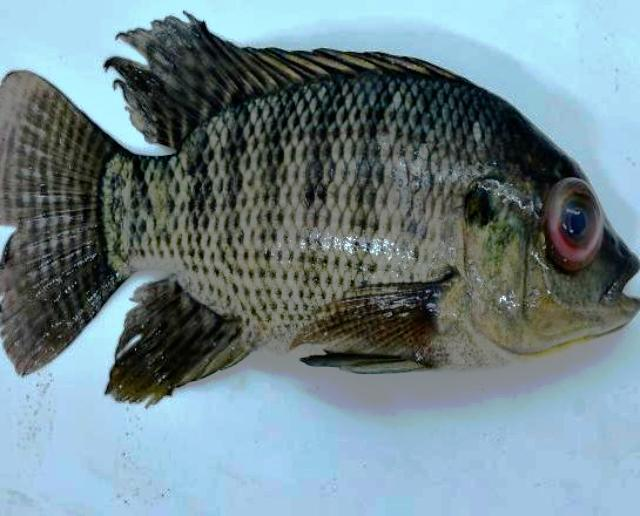Streptococcus: (0, 18, 640, 403)
